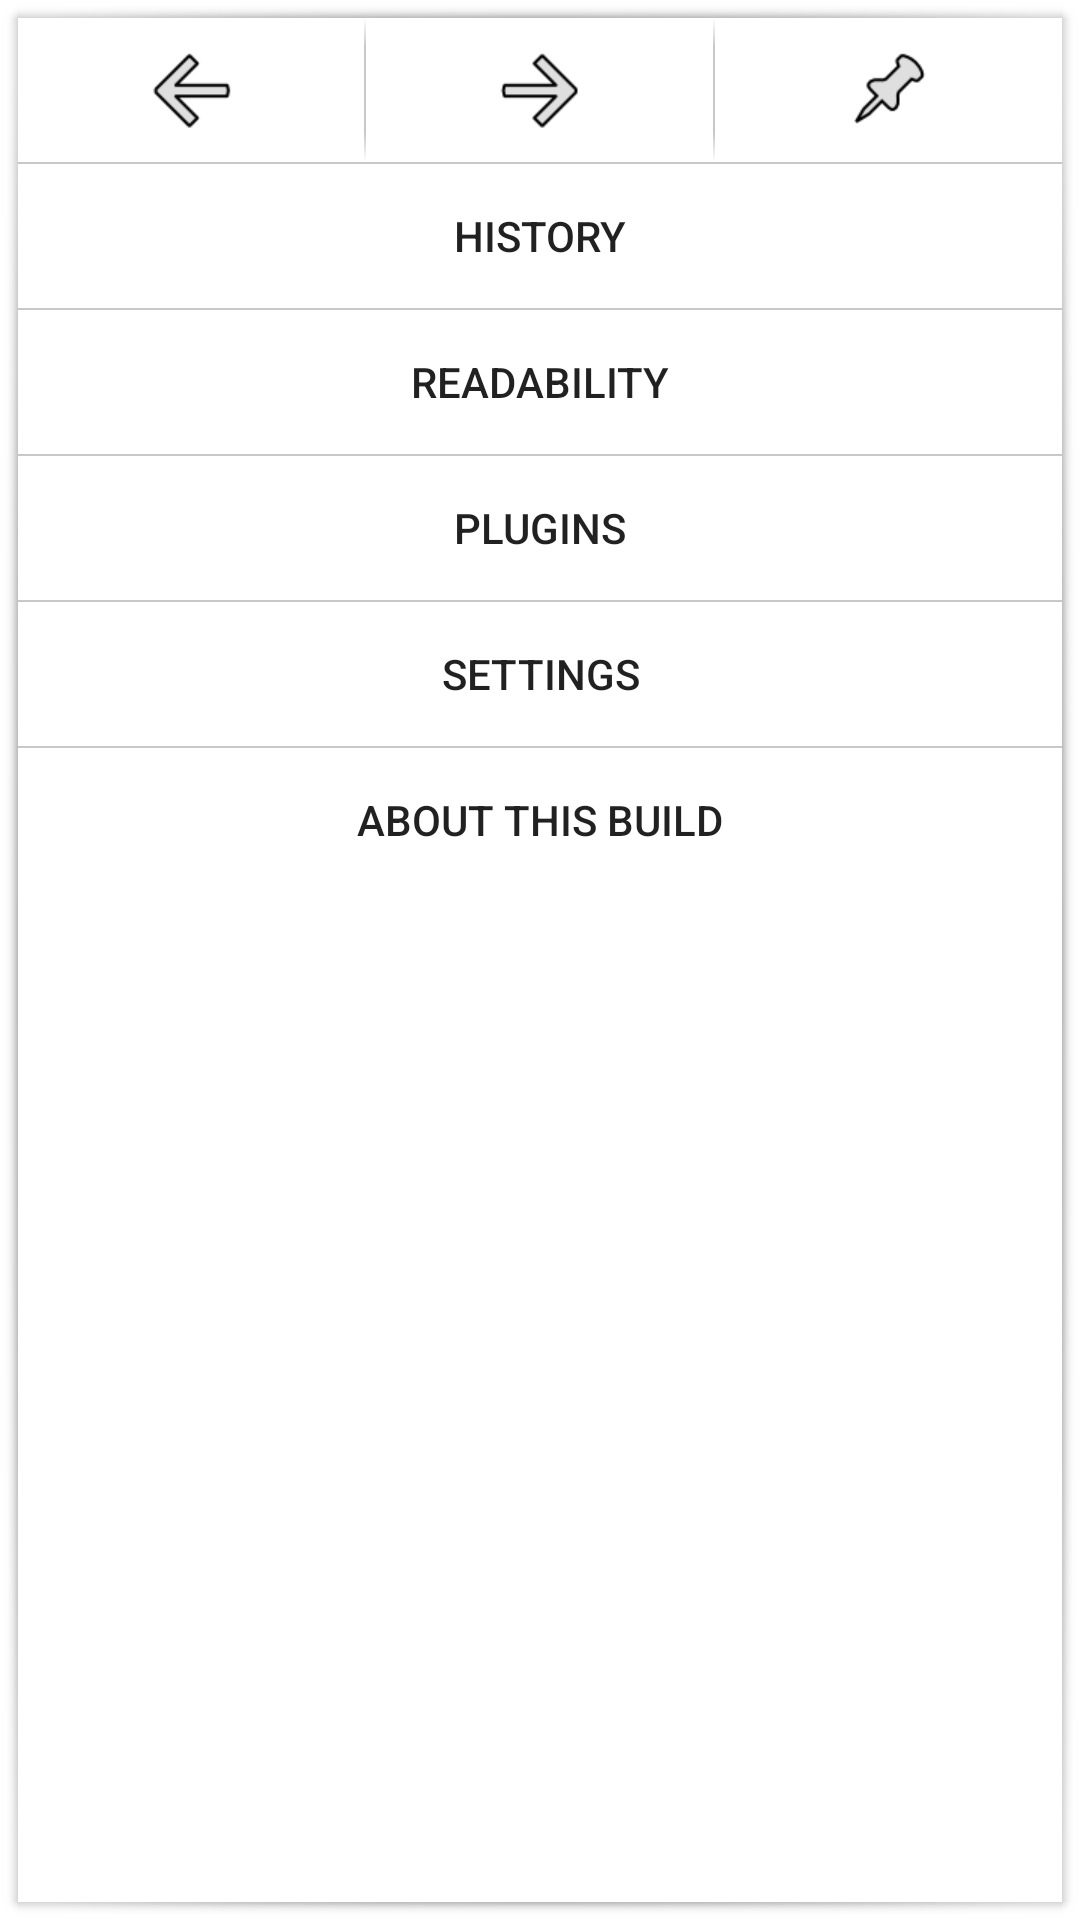

Point at icon controls on the screen. Image size 1080x1920, points as (x=x, y=y).
back: (x=192, y=90)
forward: (x=539, y=90)
pin: (x=889, y=88)
